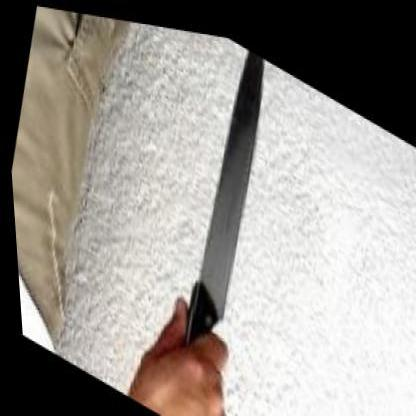knife: (129, 17, 303, 412)
